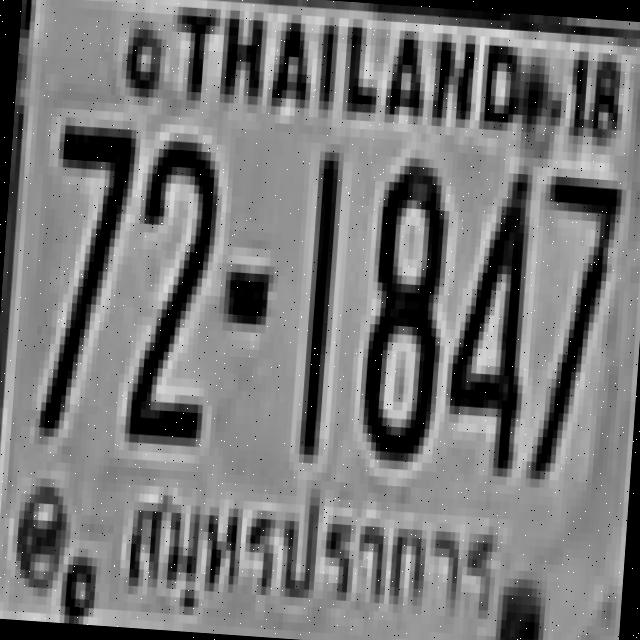1: (294, 150, 339, 454)
2: (122, 130, 219, 438)
4: (441, 161, 533, 468)
7: (34, 116, 132, 432), (526, 167, 618, 474)
8: (357, 155, 448, 454)
SamutPrakan: (114, 470, 505, 640)
